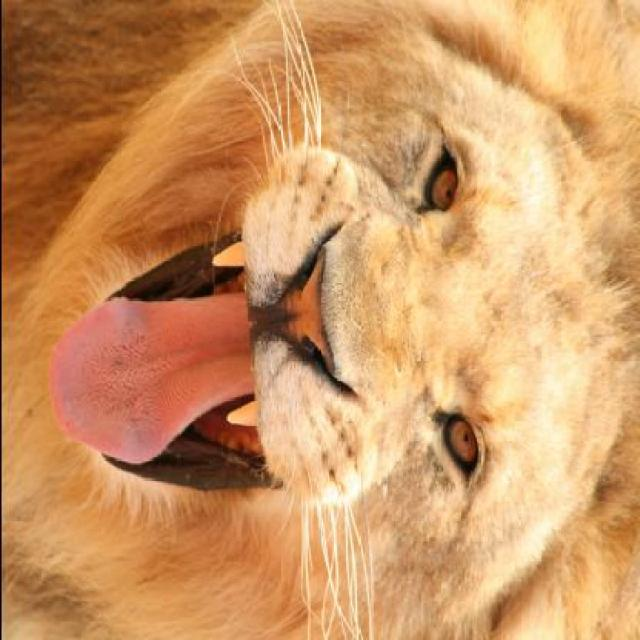Lion: (2, 8, 629, 634)
